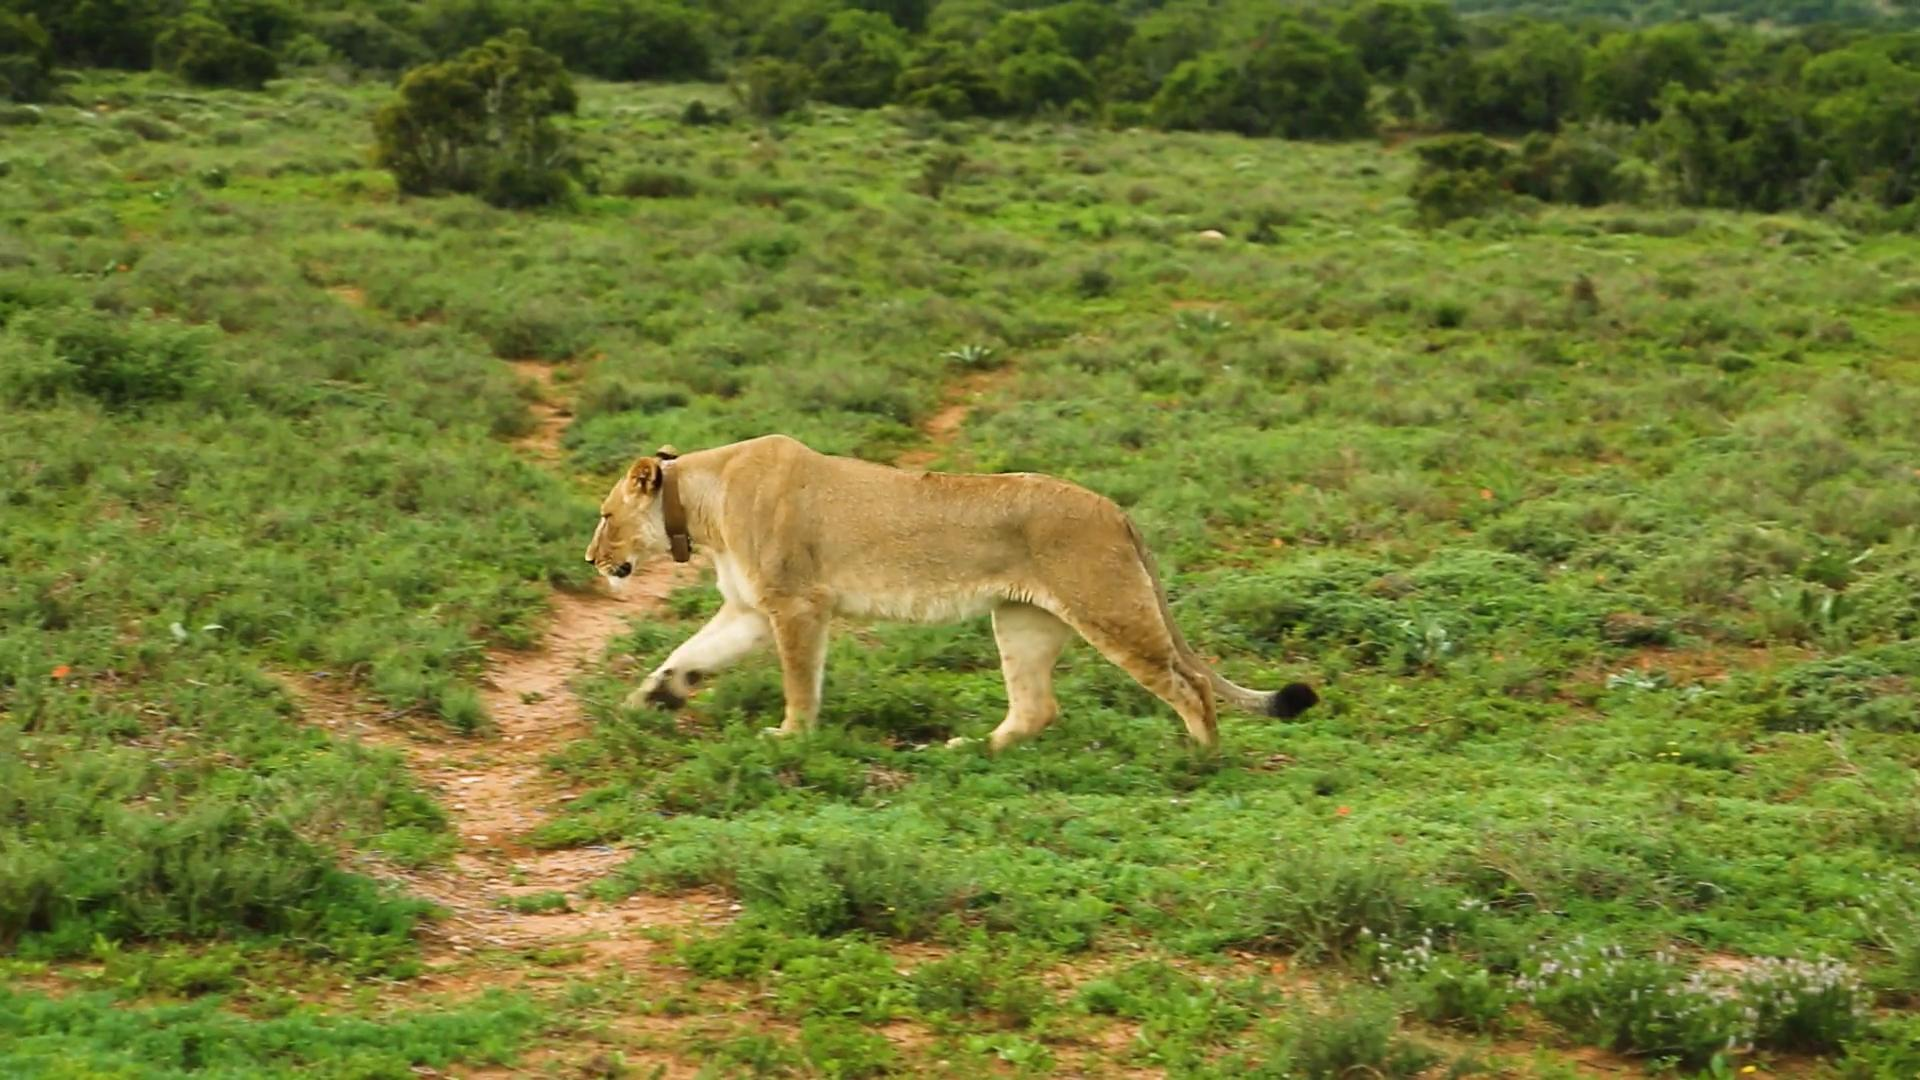lions: (570, 409, 1348, 795)
